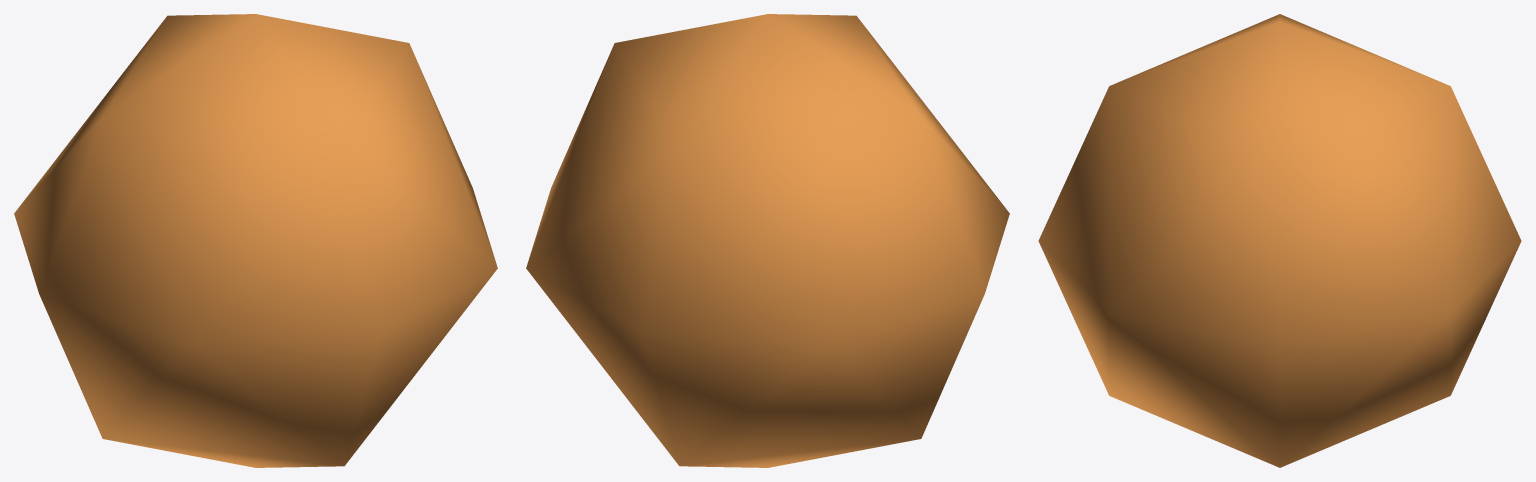
The model's file is 026_Norah_Passive_buff_02.fbx.
3 views of the same model, side by side, from view 1: azimuth 30°, elevation 25°; view 2: azimuth 150°, elevation 25°; view 3: azimuth 270°, elevation 25° (orthographic). The views are drawn at different scales.
Visible parts, largest first — view 1: Norah_Ball_noise; view 2: Norah_Ball_noise; view 3: Norah_Ball_noise.
Part boxes in pixels (<box>): Norah_Ball_noise: <box>14,14,497,467</box>; Norah_Ball_noise: <box>526,14,1009,467</box>; Norah_Ball_noise: <box>1038,14,1521,467</box>.
Size of the model in its own units: 0.4802 by 0.4802 by 0.4802.
